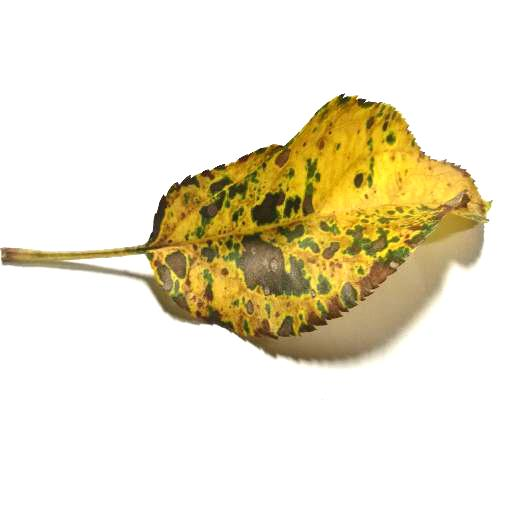Brown_Spot: (147, 177, 431, 322)
